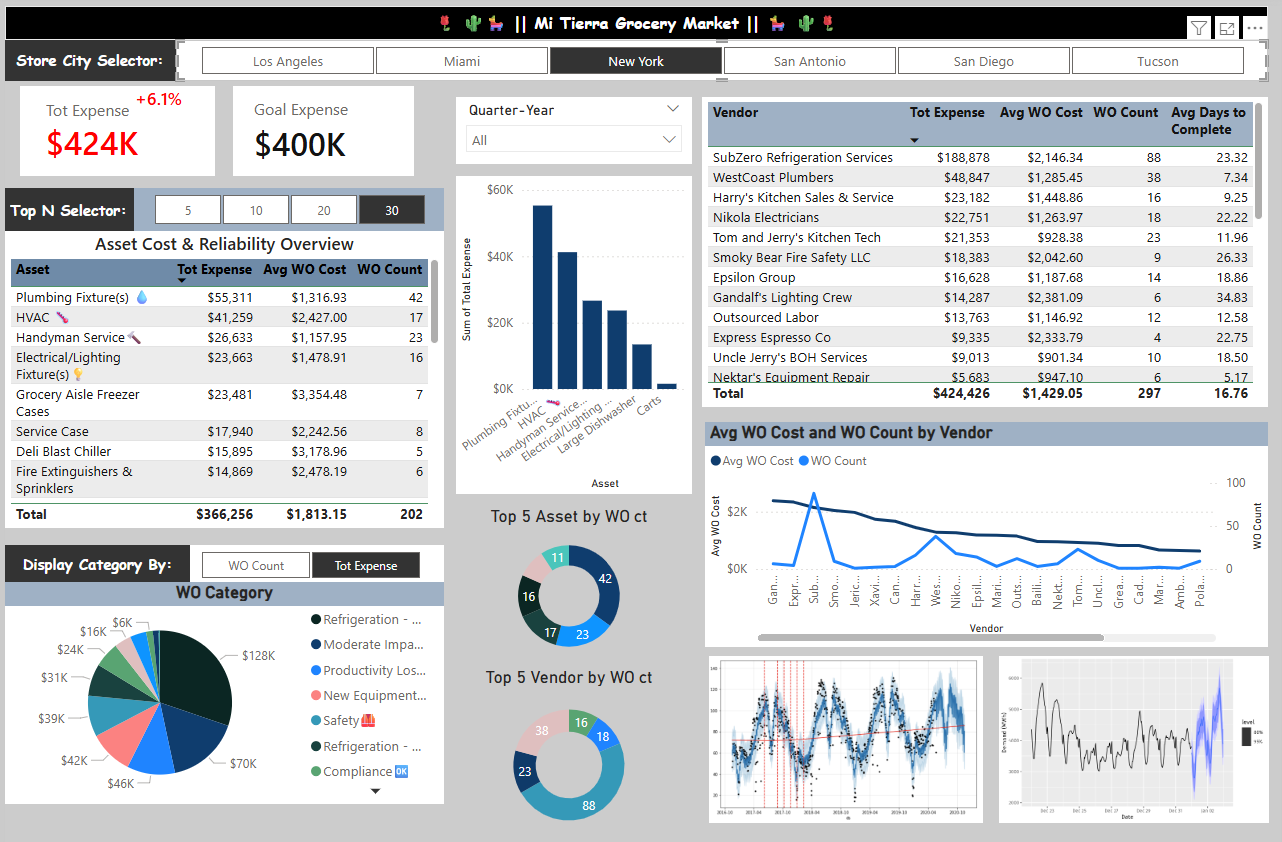

This screenshot's page, from the dashboard's own definition file:
{"tool":"powerbi","page":{"name":"Overview","canvas":[1276,850],"ordinal":0},"visuals":[{"type":"clusteredColumnChart","fields":{"Category":["DimAsset.Asset"],"Y":["Sum(FactTable.Total Expense)"]},"box":[451,170,236,318],"z":0},{"type":"slicer","title":"Top N","fields":{"Values":["Top N Selector.TopN"]},"box":[129,182,310,43],"z":1000},{"type":"tableEx","fields":{"Values":["DimVendor.Vendor","FactTable.Tot Expense","FactTable.Avg WO Cost","FactTable.WO Count","FactTable.Avg Days to Complete"]},"box":[697,91,566,310],"z":2000},{"type":"lineChart","fields":{"Category":["DimVendor.Vendor"],"Y":["FactTable.Avg WO Cost"],"Y2":["FactTable.WO Count"]},"box":[700,416,563,225],"z":3000},{"type":"textbox","box":[0,0,1263,34],"z":4000},{"type":"slicer","fields":{"Values":["DimDate.Quarter-Year"]},"box":[451,91,236,67],"z":5000},{"type":"donutChart","title":"Top 5 Asset by WO ct","fields":{"Category":["DimAsset.Asset"],"Y":["FactTable.WO Count"]},"box":[431,500,266,161],"z":6000},{"type":"tableEx","title":"Asset Cost & Reliability Overview","fields":{"Values":["DimAsset.Asset","FactTable.Tot Expense","FactTable.Avg WO Cost","FactTable.WO Count"]},"box":[0,225,439,297],"z":7000},{"type":"pieChart","title":"WO Category","fields":{"Y":["FactTable.Tot Expense"],"Category":["FactTable.WO Category"]},"box":[0,576,439,222],"z":8000},{"type":"donutChart","title":"Top 5 Vendor by WO ct","fields":{"Y":["FactTable.WO Count"],"Series":["DimVendor.Vendor"]},"box":[441,661,246,177],"z":9000},{"type":"image","box":[687,650,308,167],"z":10000},{"type":"image","box":[950,650,358,167],"z":11000},{"type":"cardVisual","fields":{"Data":["FactTable.Tot Expense"]},"box":[15,80,195,90],"z":12000},{"type":"cardVisual","fields":{"Data":["MeasuresList.Goal Expense"]},"box":[228,80,181,90],"z":13000},{"type":"cardVisual","fields":{"Data":["MeasuresList.Pct Difference (Formatted)"]},"box":[118,66,106,50],"z":14000},{"type":"textbox","box":[0,34,171,41],"z":15000},{"type":"slicer","fields":{"Values":["DimStore.StoreCity"]},"box":[171,34,1092,41],"z":16000},{"type":"textbox","box":[0,182,129,43],"z":17000},{"type":"slicer","fields":{"Values":["Category Metric Slicer.Category Metric Slicer"]},"box":[171,539,268,37],"z":18000},{"type":"textbox","box":[0,539,185,37],"z":19000}]}

Visuals, with their boxes in screenshot pixels (x1, y1, x2, y2), scaled from the page's 1276x850 canvas onto the 1282x842 screenshot:
clusteredColumnChart - DimAsset.Asset x Sum(FactTable.Total Expense): region(453, 168, 690, 483)
"Top N" slicer: region(130, 180, 441, 223)
tableEx - DimVendor.Vendor x FactTable.Tot Expense: region(700, 90, 1269, 397)
lineChart - DimVendor.Vendor x FactTable.Avg WO Cost: region(703, 412, 1269, 635)
textbox: region(0, 0, 1269, 34)
slicer - DimDate.Quarter-Year: region(453, 90, 690, 157)
"Top 5 Asset by WO ct" donutChart: region(433, 495, 700, 655)
"Asset Cost & Reliability Overview" tableEx: region(0, 223, 441, 517)
"WO Category" pieChart: region(0, 571, 441, 790)
"Top 5 Vendor by WO ct" donutChart: region(443, 655, 690, 830)
image: region(690, 644, 1000, 809)
image: region(954, 644, 1281, 809)
cardVisual - FactTable.Tot Expense: region(15, 79, 211, 168)
cardVisual - MeasuresList.Goal Expense: region(229, 79, 411, 168)
cardVisual - MeasuresList.Pct Difference (Formatted): region(119, 65, 225, 115)
textbox: region(0, 34, 172, 74)
slicer - DimStore.StoreCity: region(172, 34, 1269, 74)
textbox: region(0, 180, 130, 223)
slicer - Category Metric Slicer.Category Metric Slicer: region(172, 534, 441, 571)
textbox: region(0, 534, 186, 571)
